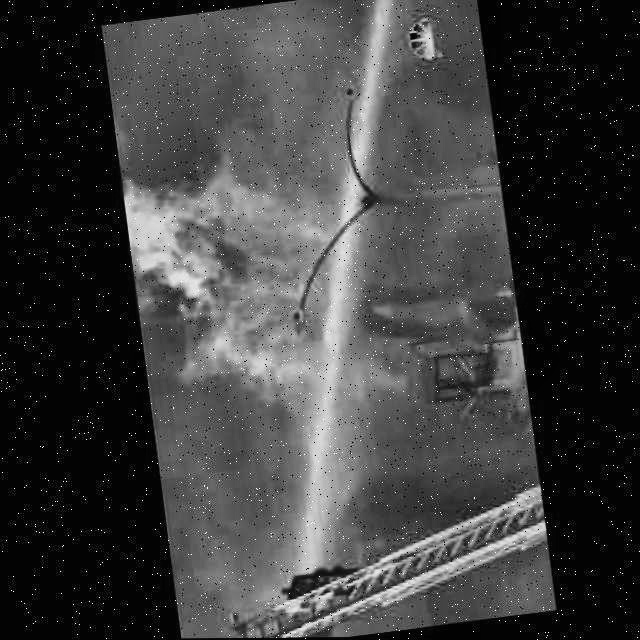Fire: (118, 135, 355, 418)
